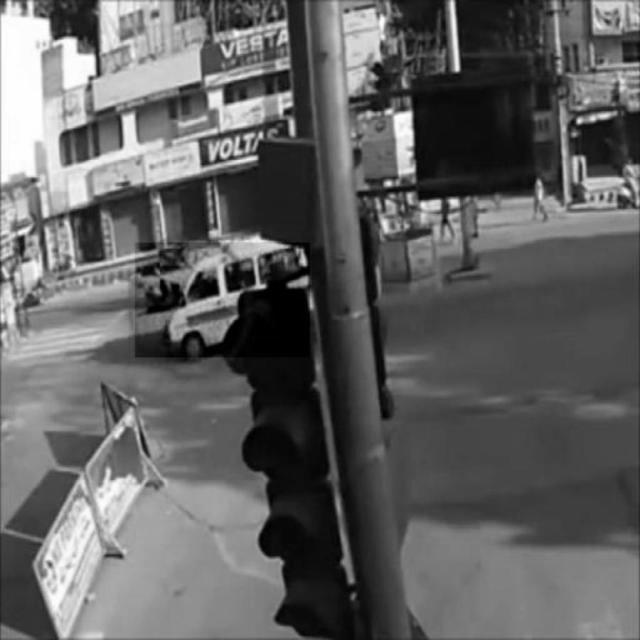accident: (135, 242, 310, 358)
